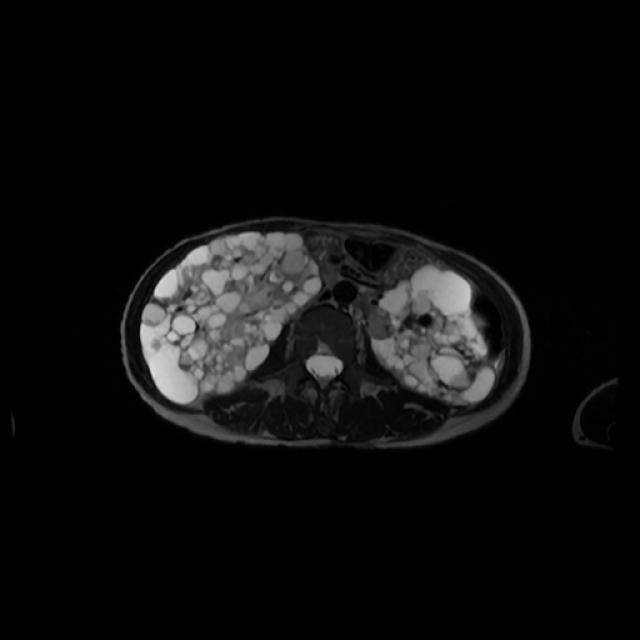sag: (139, 230, 324, 412)
sol: (368, 262, 506, 406)
